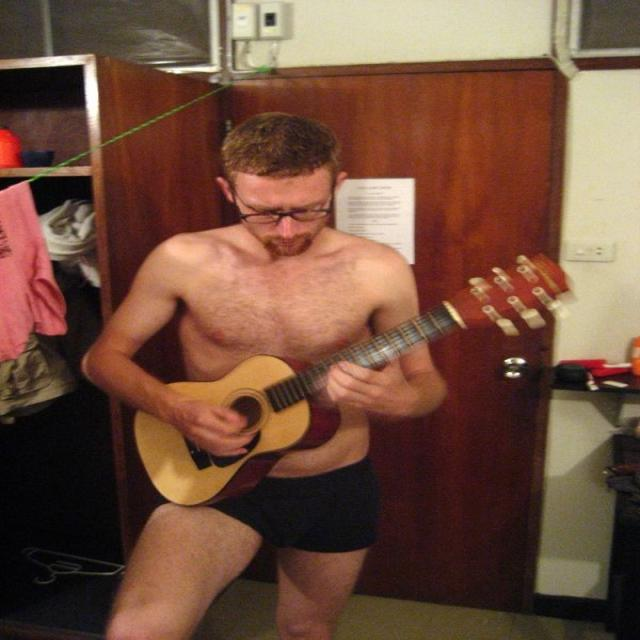guitar: (123, 250, 572, 507)
